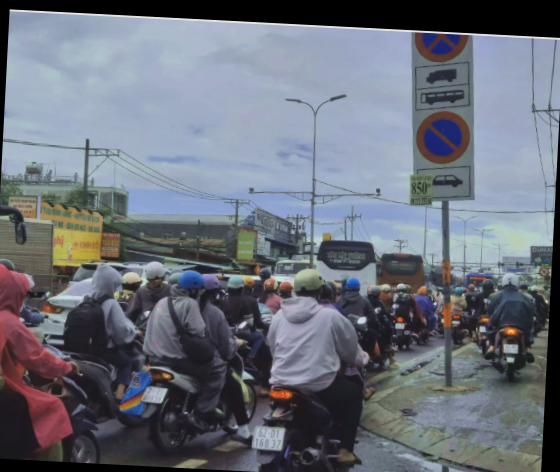Bien-so: (251, 424, 284, 452), (143, 384, 166, 405), (502, 343, 520, 355)
